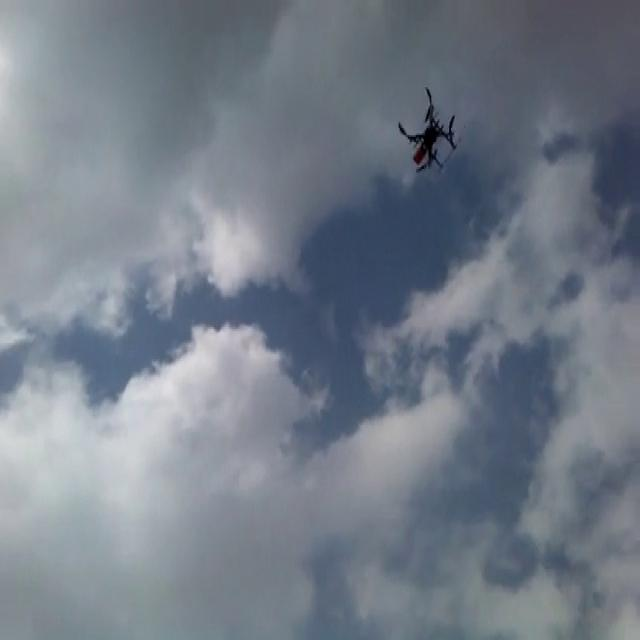drone: (395, 84, 462, 176)
